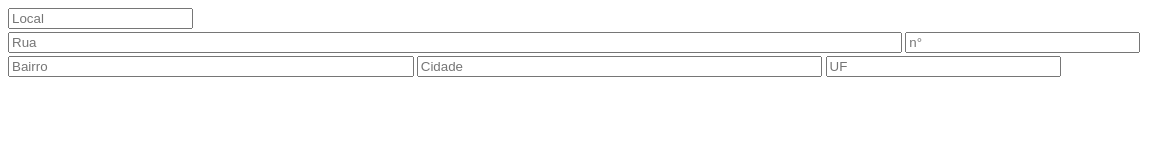
Test: AddressForm › should show suggestions when typing at least 3 characters
The width and height of the screenshot is (1152, 160).
In the field with placeholder "Local": (100, 18) [8,8,193,29], type "Add"
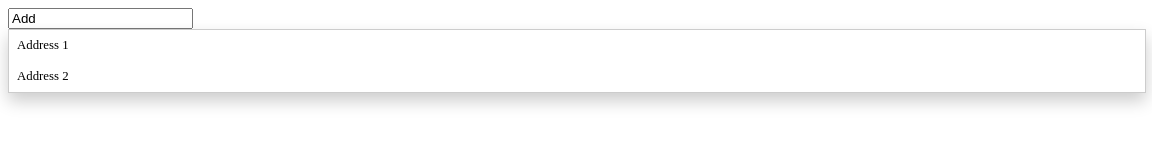
Now the text "Address 1" is shown, box [17,38,68,52]
Now the text "Address 2" is shown, box [17,69,68,83]
